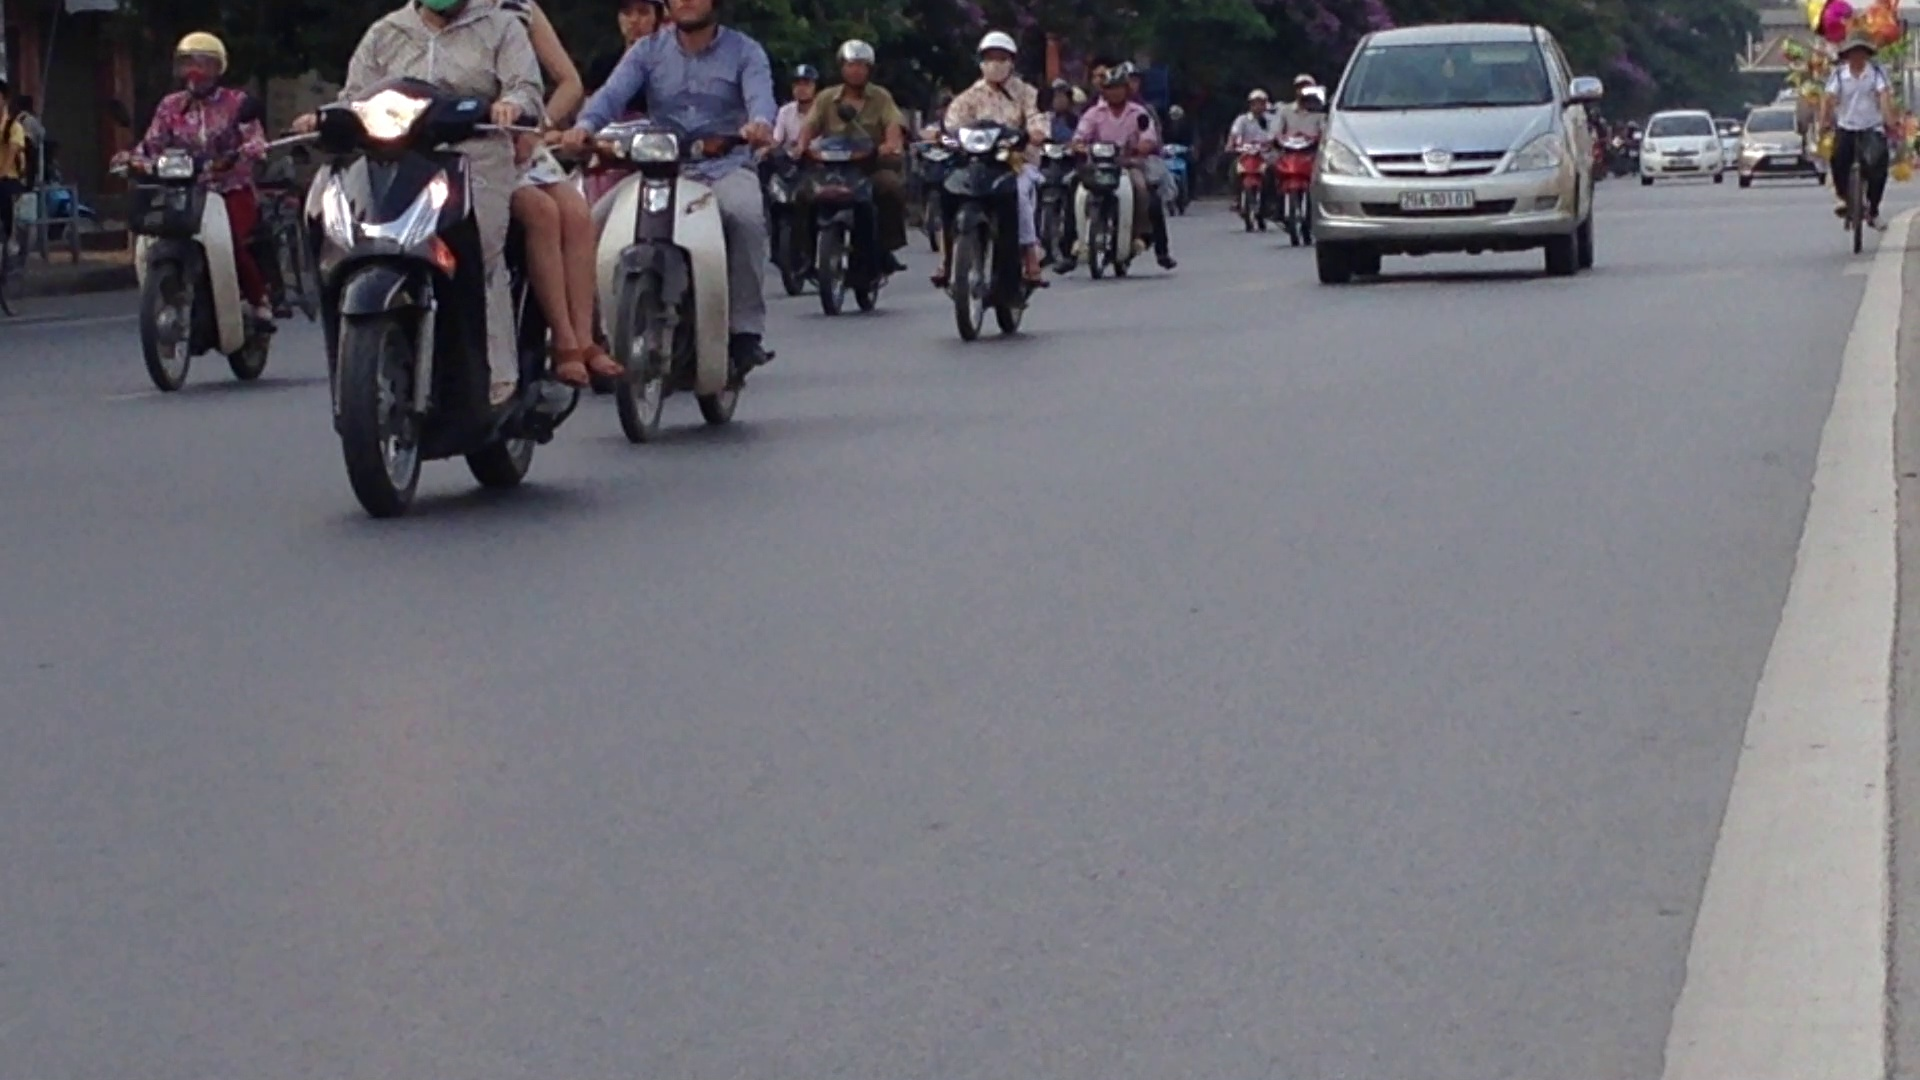person: (1390, 183, 1477, 214)
